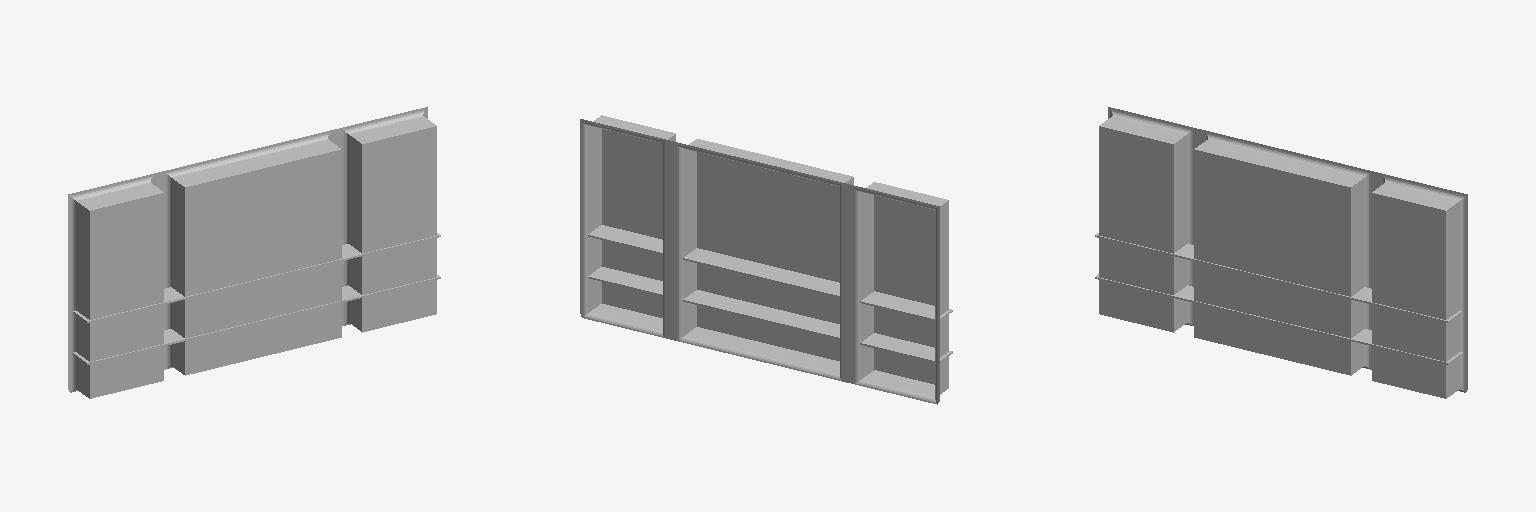
Rendered from SpeakeasyWoodBarWall.obj.
3 views of the same model, side by side, from view 1: azimuth 30°, elevation 25°; view 2: azimuth 150°, elevation 25°; view 3: azimuth 330°, elevation 25° (orthographic).
Parts seen in each view (by area): view 1: Plane.019_Plane.002, Cube_Cube.001, Cube.001_Cube.002; view 2: Plane.019_Plane.002, Cube_Cube.001, Cube.001_Cube.002; view 3: Plane.019_Plane.002, Cube_Cube.001, Cube.001_Cube.002.
Part boxes in pixels (x1,y1,x2,y2): Plane.019_Plane.002: (68,107,436,398); Cube_Cube.001: (73,275,440,364); Cube.001_Cube.002: (73,233,440,322); Plane.019_Plane.002: (580,115,948,404); Cube_Cube.001: (588,267,952,362); Cube.001_Cube.002: (588,225,952,320); Plane.019_Plane.002: (1099,107,1467,398); Cube_Cube.001: (1095,274,1462,364); Cube.001_Cube.002: (1095,233,1462,322).
Size of the model in its own units: 7.61 by 4.02 by 0.5925.